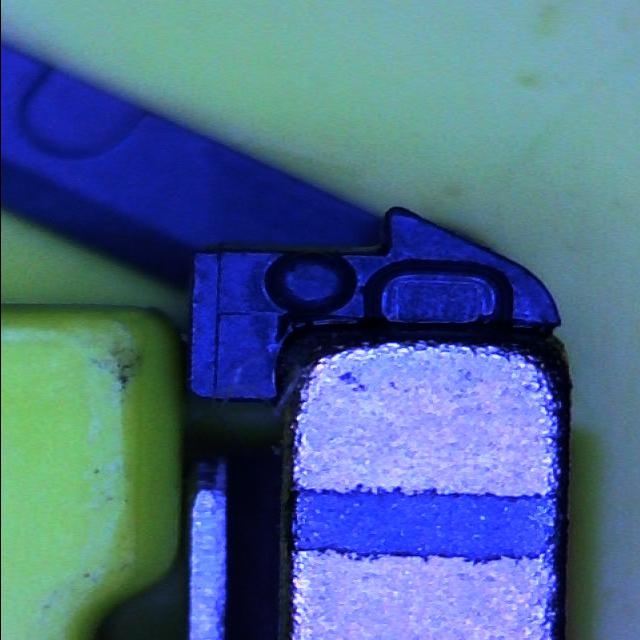lacking: (360, 257, 514, 329)
